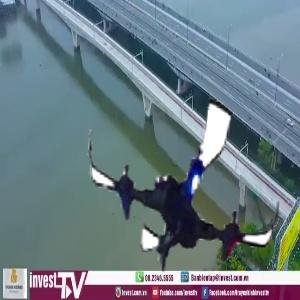drone: (80, 79, 290, 289)
